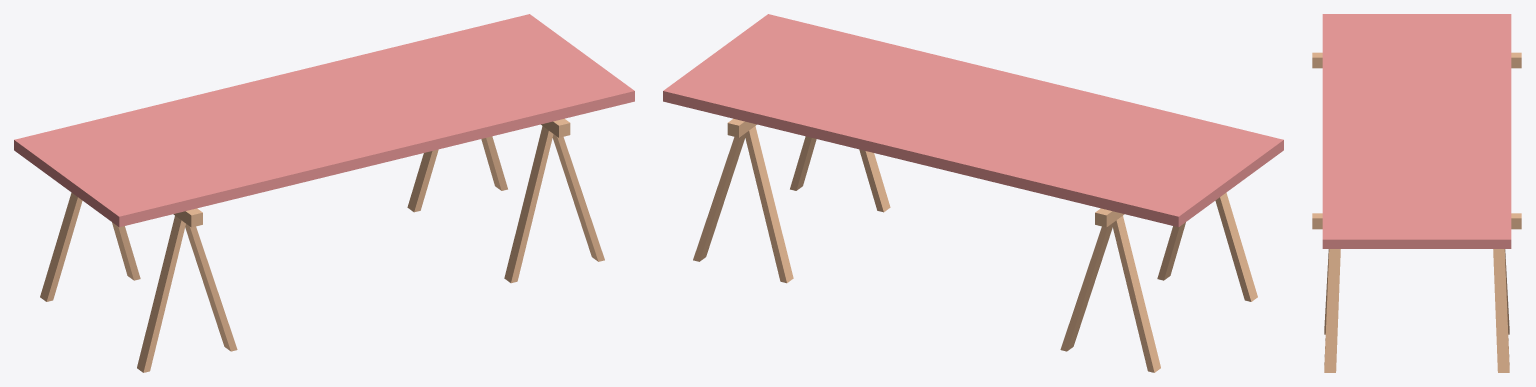
File: Table.fbx
3 views of the same model, side by side, from view 1: azimuth 30°, elevation 25°; view 2: azimuth 150°, elevation 25°; view 3: azimuth 270°, elevation 25° (orthographic). The views are drawn at different scales.
Parts seen in each view (by area): view 1: Tischplatte, Bock, Bock.001; view 2: Tischplatte, Bock, Bock.001; view 3: Tischplatte, Bock.001, Bock.
Part boxes in pixels (box(x1,y1,x2,y2)): Tischplatte: box(14, 14, 634, 227); Bock: box(40, 192, 237, 372); Bock.001: box(407, 118, 604, 283); Tischplatte: box(663, 14, 1283, 227); Bock: box(1060, 192, 1257, 372); Bock.001: box(693, 118, 890, 283); Tischplatte: box(1322, 14, 1511, 248); Bock.001: box(1312, 213, 1521, 372); Bock: box(1312, 52, 1521, 68).
Size of the model in its own units: 510 by 154 by 200.
